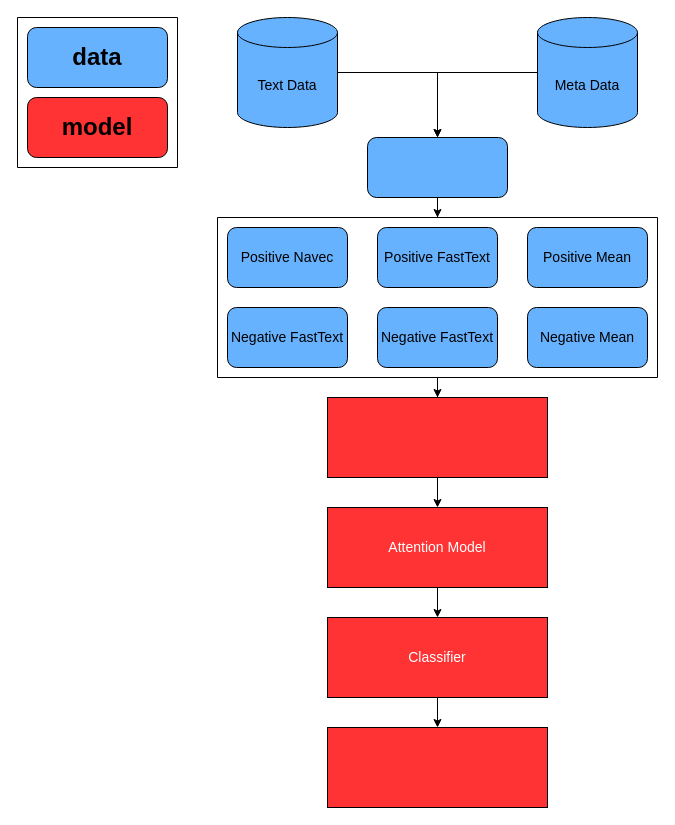
The diagram is 675 pixels wide and 825 high, and some of its shapes have lost their labels. The shapes that lost their labels are listed below. From the top down, each one's centre as x and y in pixels, then its label:
At [437,167]: "Preprocessing and Augmentations".
At [437,437]: "LSTM Layers".
At [437,767]: "Output".
